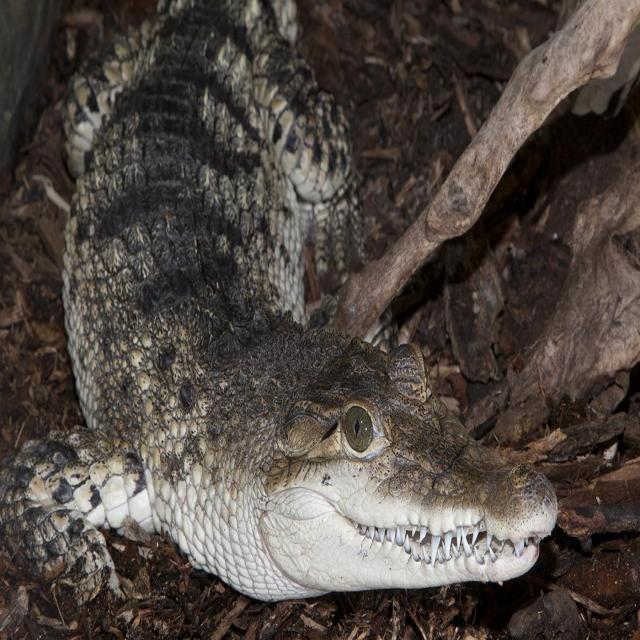crocodile: (0, 0, 560, 609)
